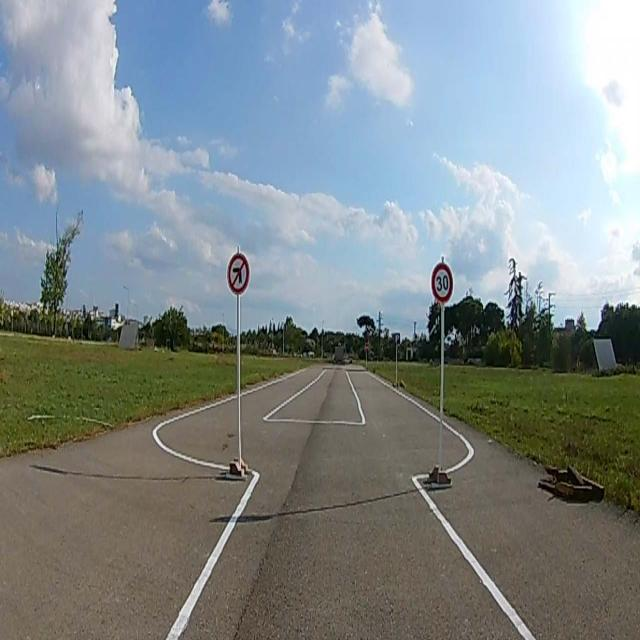30: (432, 263, 452, 301)
soladonulmez: (228, 256, 248, 292)
